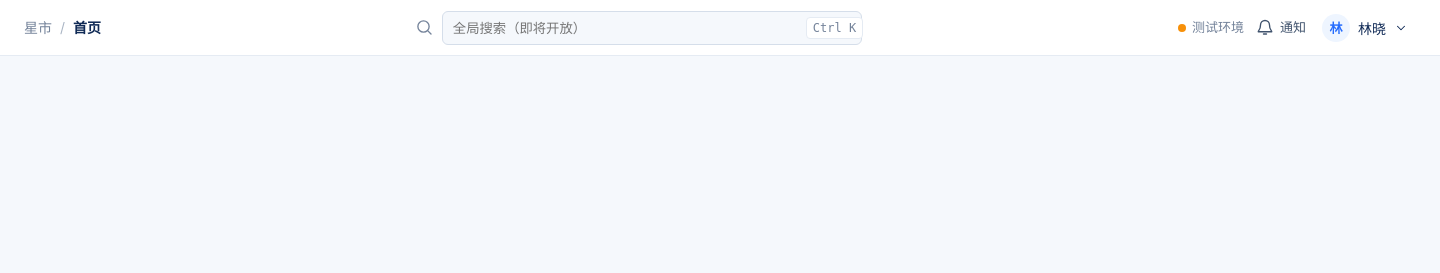
Scenario: AUTH4 header position › shows the primary position name loaded for the tenant context
This screenshot has width=1440, height=273.
Click the button with test id "shell-user" at (1367, 28), box [1318,10,1416,44]
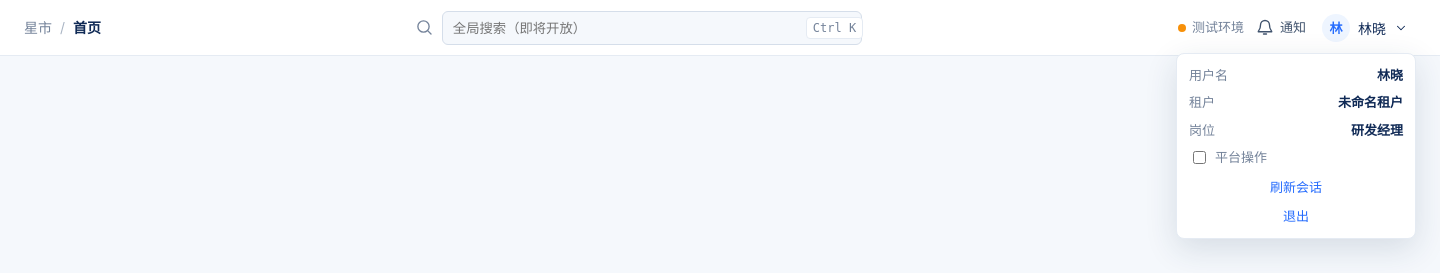
Now the text with test id "shell-position" reads "研发经理", box [1351,122,1403,138]
